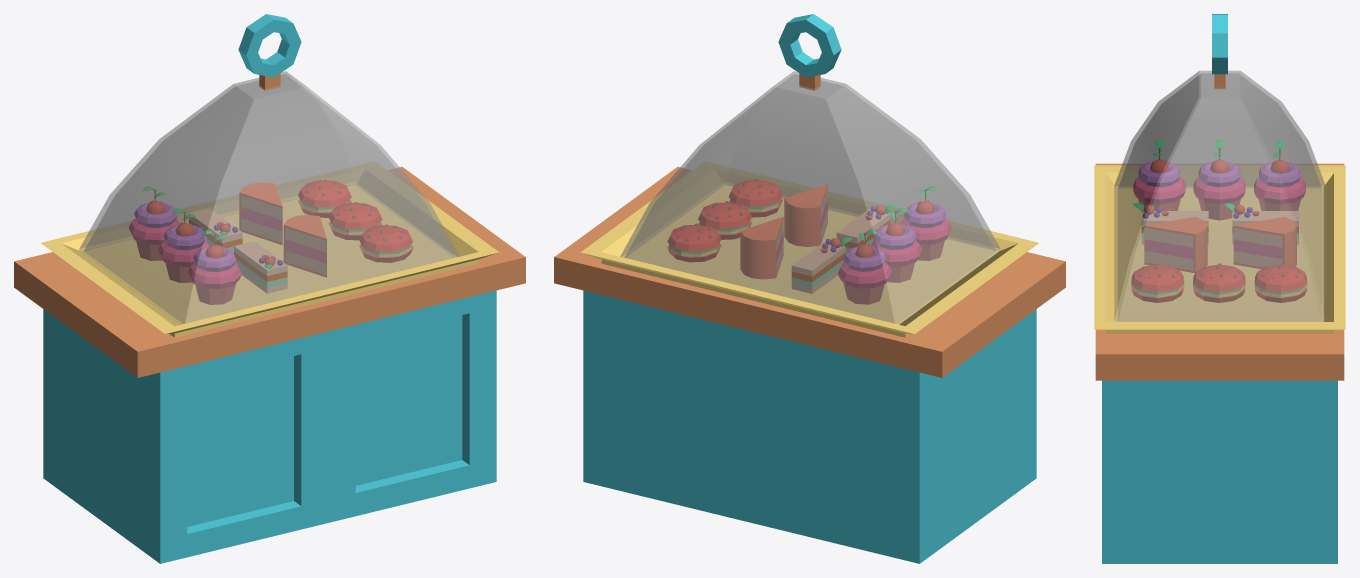
File: Bakery lv2.fbx
3 renders of one model, left to right at view 1: azimuth 30°, elevation 25°; view 2: azimuth 150°, elevation 25°; view 3: azimuth 270°, elevation 25°, orthographic.
Visible parts, largest first — view 1: Bakery_lv2; view 2: Bakery_lv2; view 3: Bakery_lv2.
Part boxes in pixels (x1=…): Bakery_lv2: x1=14, y1=14, x2=525, y2=563; Bakery_lv2: x1=554, y1=14, x2=1065, y2=563; Bakery_lv2: x1=1094, y1=14, x2=1345, y2=563.
Size of the model in its own units: 241 by 275 by 134.
